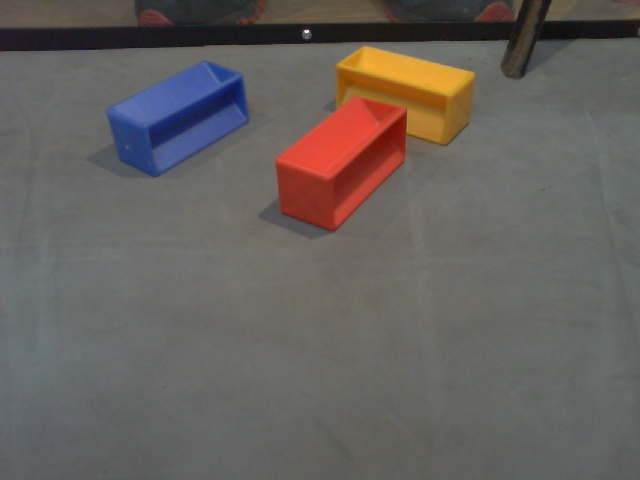BlueSample: (103, 59, 251, 178)
RedSample: (272, 93, 409, 236)
YellowSample: (330, 39, 477, 147)
